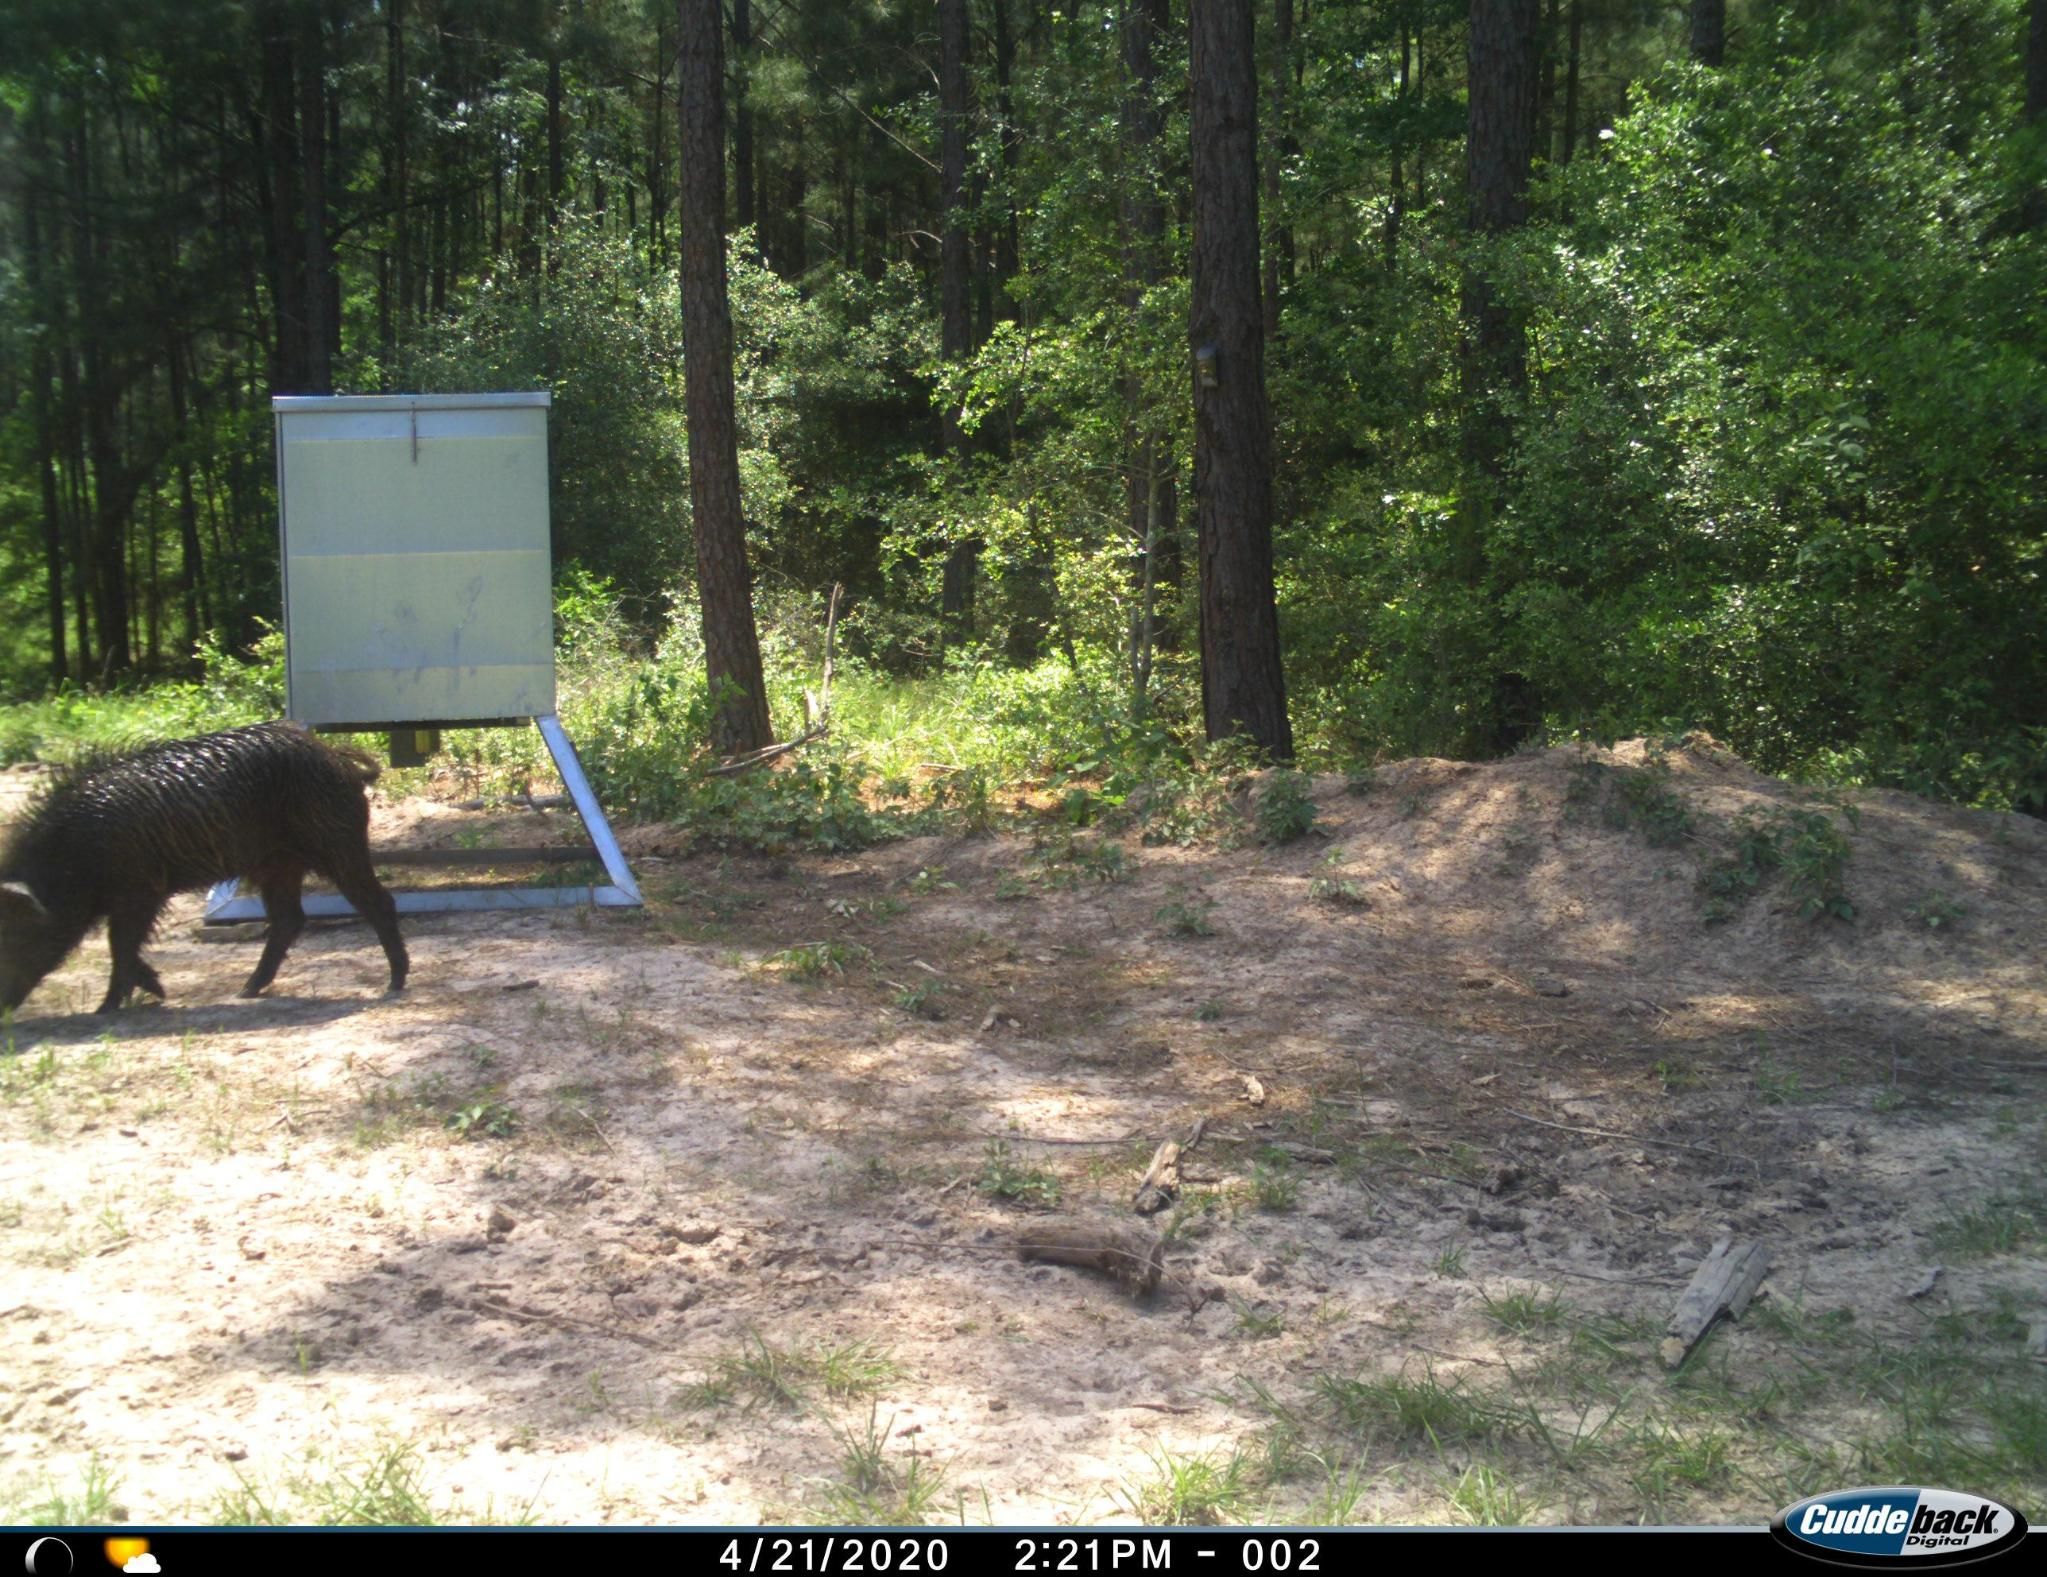Hog: (0, 689, 422, 1062)
